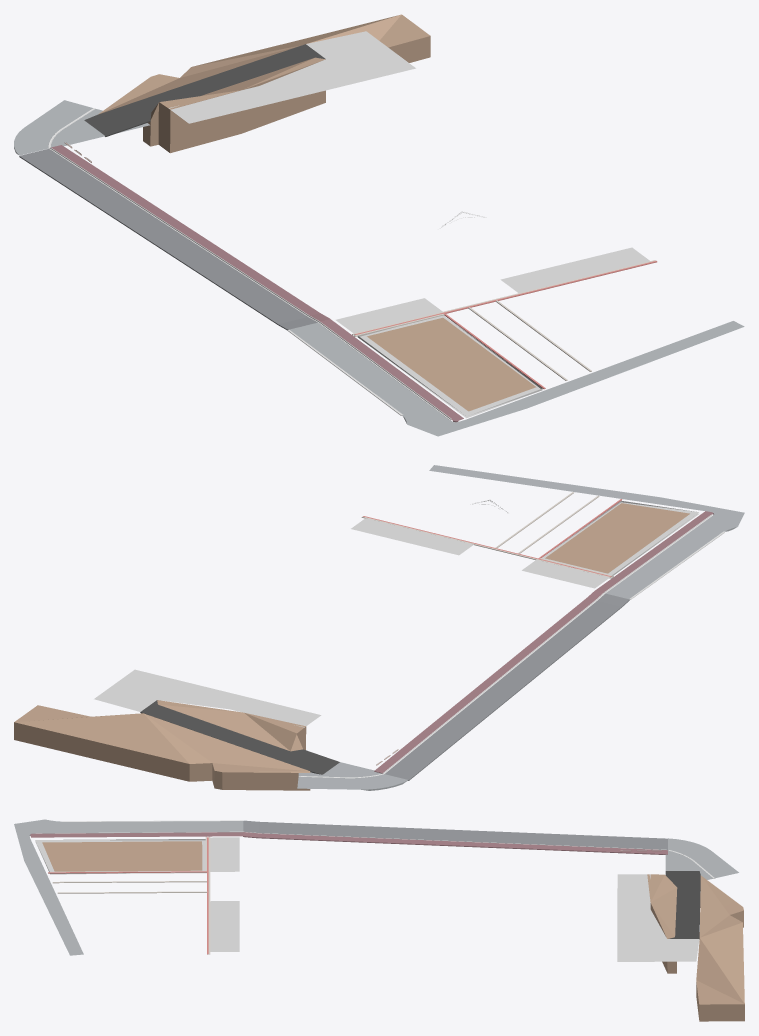
Rendered from Exterieur.fbx.
The picture shows the model from 3 angles, top to bottom: view 1: azimuth 30°, elevation 25°; view 2: azimuth 150°, elevation 25°; view 3: azimuth 270°, elevation 25°; orthographic projection. The views are drawn at different scales.
Parts seen in each view (by area): view 1: Exterieur; view 2: Exterieur; view 3: Exterieur.
Part boxes in pixels (bbox=[...]): Exterieur: bbox=[14, 14, 744, 436]; Exterieur: bbox=[14, 465, 744, 790]; Exterieur: bbox=[14, 819, 744, 1021].
Size of the model in its own units: 8518 by 2274 by 15597.
